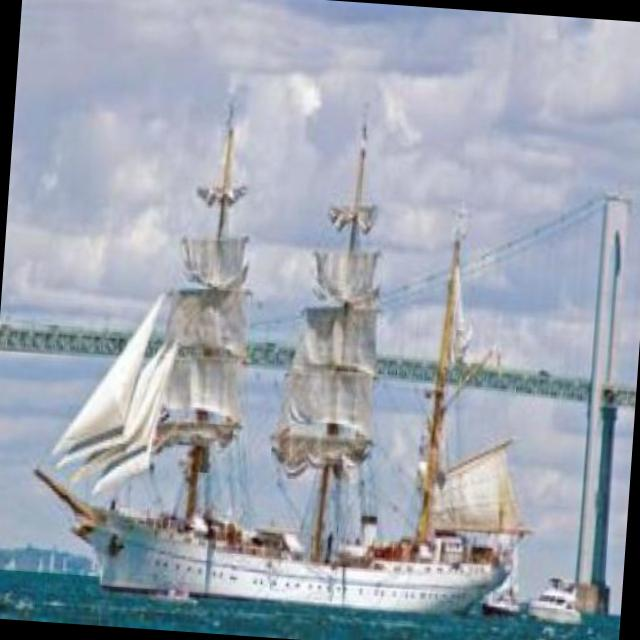boat: (43, 125, 540, 622)
